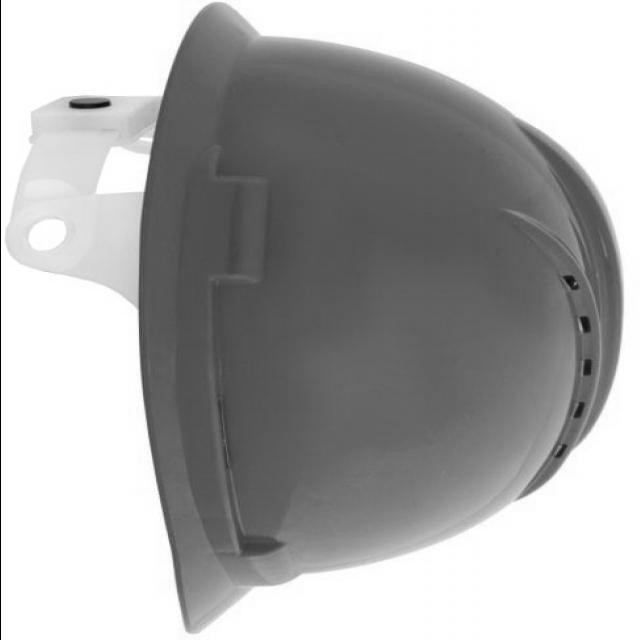construction helmet: (0, 2, 622, 634)
